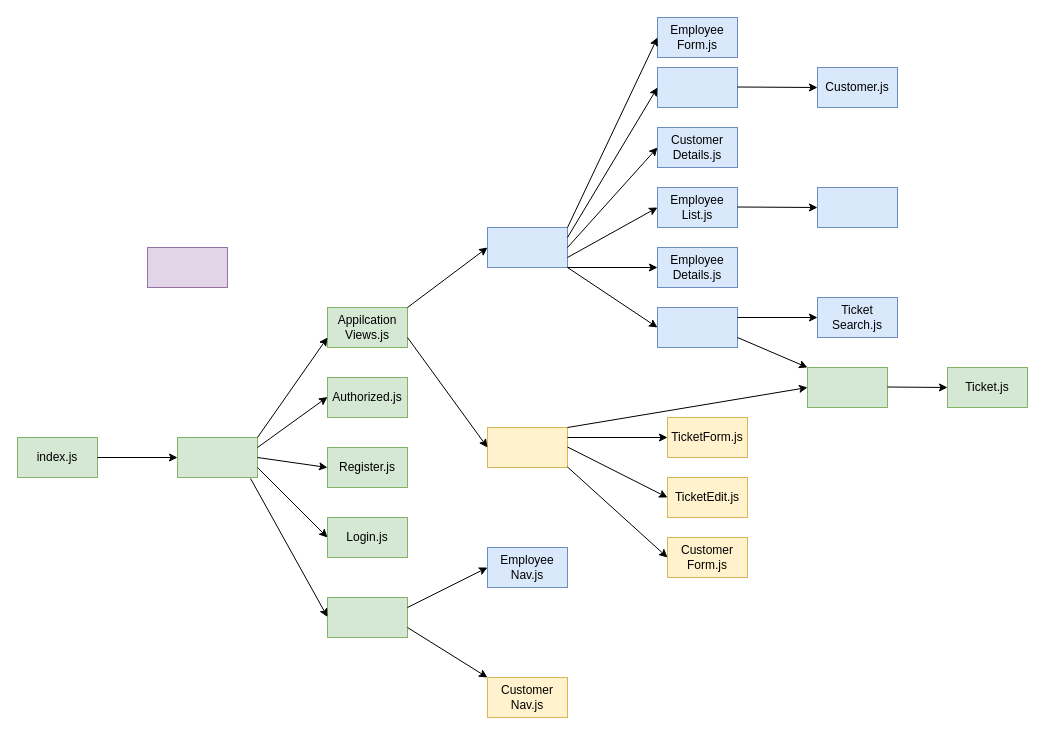
The diagram is 1045 pixels wide and 735 high, and some of its shapes have lost their labels. The shapes that lost their labels are listed below. From the top down, each one's centre as x and y in pixels, then its label:
pixel 697 87: Customer List.js
pixel 857 207: Employee.js
pixel 187 267: API
pixel 527 247: Employee Views .js
pixel 697 327: Ticket Container.js
pixel 847 387: TicketList.js
pixel 217 457: Repairs.js
pixel 527 447: Customer Views .js
pixel 367 617: NavBar.js
